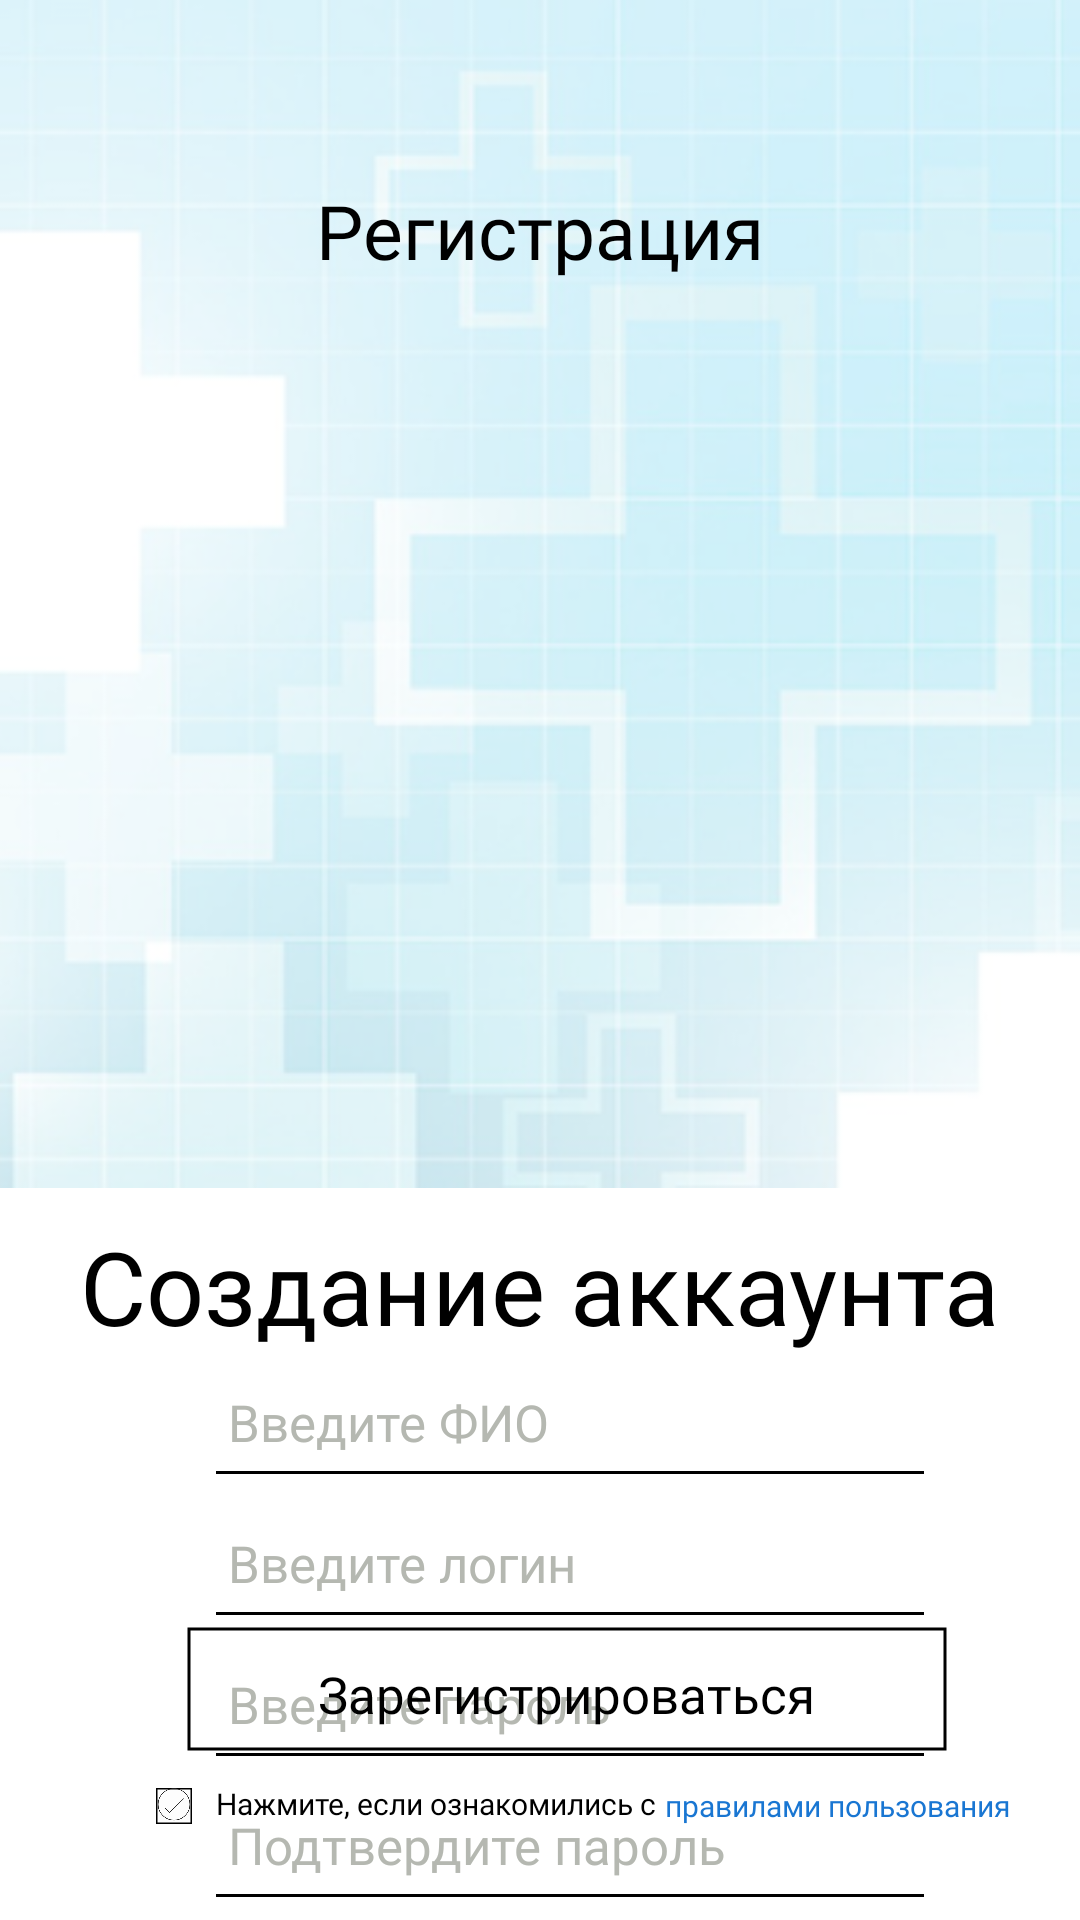

Icon click points for this 1080w x 1920h phone screenshot, format point (x, y):
correct: point (174, 1804)
